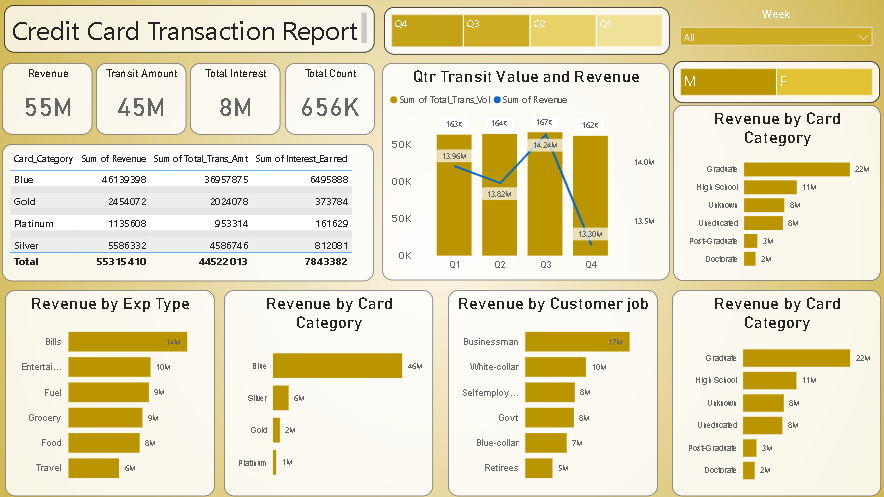

Layout of this report page (visuals, bound fields, positions):
{"tool":"powerbi","page":{"name":"cc report","canvas":[1280,720],"ordinal":1},"visuals":[{"type":"textbox","box":[5.6,7,536.6,69],"z":0},{"type":"barChart","title":"Revenue by Exp Type","fields":{"Y":["Sum(ccdb credit_card.Revenue)"],"Category":["ccdb credit_card.Exp Type"]},"box":[7.1,420.9,304,299.1],"z":1000},{"type":"barChart","title":"Revenue by Card Category","fields":{"Y":["Sum(ccdb credit_card.Revenue)"],"Category":["ccdb credit_card.Card_Category"]},"box":[324.6,420.9,303.3,299.1],"z":2000},{"type":"lineClusteredColumnComboChart","title":"Qtr Transit Value and Revenue","fields":{"Y2":["Sum(ccdb credit_card.Revenue)"],"Y":["Sum(ccdb credit_card.Total_Trans_Vol)"],"Category":["ccdb credit_card.Qtr"]},"box":[553.5,91.5,416.9,315.5],"z":3000},{"type":"tableEx","fields":{"Values":["ccdb credit_card.Card_Category","Sum(ccdb credit_card.Revenue)","Sum(ccdb credit_card.Total_Trans_Amt)","Sum(ccdb credit_card.Interest_Earned)"]},"box":[2.8,208.5,539.4,198.6],"z":4000},{"type":"barChart","title":"Revenue by Customer job","fields":{"Y":["Sum(ccdb credit_card.Revenue)"],"Category":["ccdb cust_detail.Customer_Job"]},"box":[649.1,420.9,304,299.1],"z":5000},{"type":"barChart","title":"Revenue by Card Category","fields":{"Y":["Sum(ccdb credit_card.Revenue)"],"Category":["ccdb cust_detail.Education_Level"]},"box":[973.7,420.9,303.3,299.1],"z":6000},{"type":"card","title":"Revenue","fields":{"Values":["Sum(ccdb credit_card.Revenue)"]},"box":[3.2,91.9,131,104],"z":7000},{"type":"card","title":"Transit Amount","fields":{"Values":["Sum(ccdb credit_card.Total_Trans_Amt)"]},"box":[139.4,91.5,131,104.2],"z":8000},{"type":"card","title":"Total Interest","fields":{"Values":["Sum(ccdb credit_card.Interest_Earned)"]},"box":[276.1,91.5,131,104.2],"z":9000},{"type":"slicer","title":"Week","fields":{"Values":["ccdb credit_card.Week_Start_Date"]},"box":[975.4,10.1,298.6,63.8],"z":10000},{"type":"treemap","fields":{"Group":["ccdb credit_card.Qtr"],"Values":["Min(ccdb credit_card.ï»¿Client_Num)"]},"box":[556.3,9.9,414.1,69],"z":11000},{"type":"treemap","fields":{"Values":["Min(ccdb credit_card.ï»¿Client_Num)"],"Group":["ccdb cust_detail.Gender"]},"box":[975.4,88.4,300,60.9],"z":12000},{"type":"card","title":"Total Count","fields":{"Values":["Sum(ccdb credit_card.Total_Trans_Vol)"]},"box":[412.7,91.5,129.6,104.2],"z":14000},{"type":"barChart","title":"Revenue by Card Category","fields":{"Y":["Sum(ccdb credit_card.Revenue)"],"Category":["ccdb cust_detail.Education_Level"]},"box":[976.1,152.1,301.4,254.9],"z":15000}]}

Visuals, with their boxes in screenshot pixels (x1, y1, x2, y2), scaled from the page's 1280x720 canvas onto the 884x497 screenshot:
textbox: x1=4 y1=5 x2=374 y2=52
"Revenue by Exp Type" barChart: x1=5 y1=291 x2=215 y2=496
"Revenue by Card Category" barChart: x1=224 y1=291 x2=434 y2=496
"Qtr Transit Value and Revenue" lineClusteredColumnComboChart: x1=382 y1=63 x2=670 y2=281
tableEx - ccdb credit_card.Card_Category x Sum(ccdb credit_card.Revenue): x1=2 y1=144 x2=374 y2=281
"Revenue by Customer job" barChart: x1=448 y1=291 x2=658 y2=496
"Revenue by Card Category" barChart: x1=672 y1=291 x2=882 y2=496
"Revenue" card: x1=2 y1=63 x2=93 y2=135
"Transit Amount" card: x1=96 y1=63 x2=187 y2=135
"Total Interest" card: x1=191 y1=63 x2=281 y2=135
"Week" slicer: x1=674 y1=7 x2=880 y2=51
treemap - ccdb credit_card.Qtr x Min(ccdb credit_card.ï»¿Client_Num): x1=384 y1=7 x2=670 y2=54
treemap - Min(ccdb credit_card.ï»¿Client_Num) x ccdb cust_detail.Gender: x1=674 y1=61 x2=881 y2=103
"Total Count" card: x1=285 y1=63 x2=375 y2=135
"Revenue by Card Category" barChart: x1=674 y1=105 x2=882 y2=281
